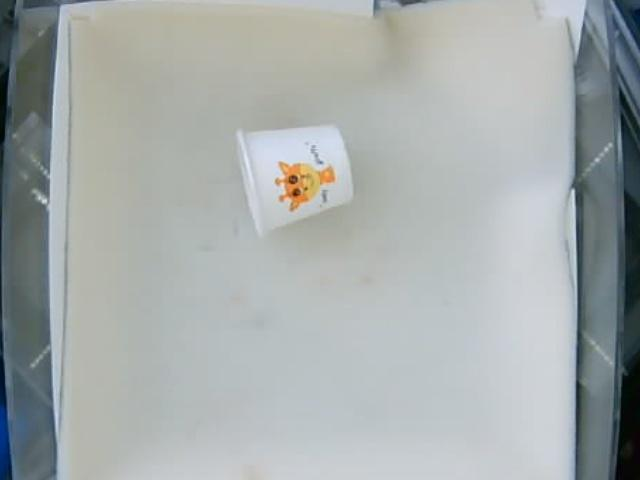Cup: (233, 121, 351, 235)
